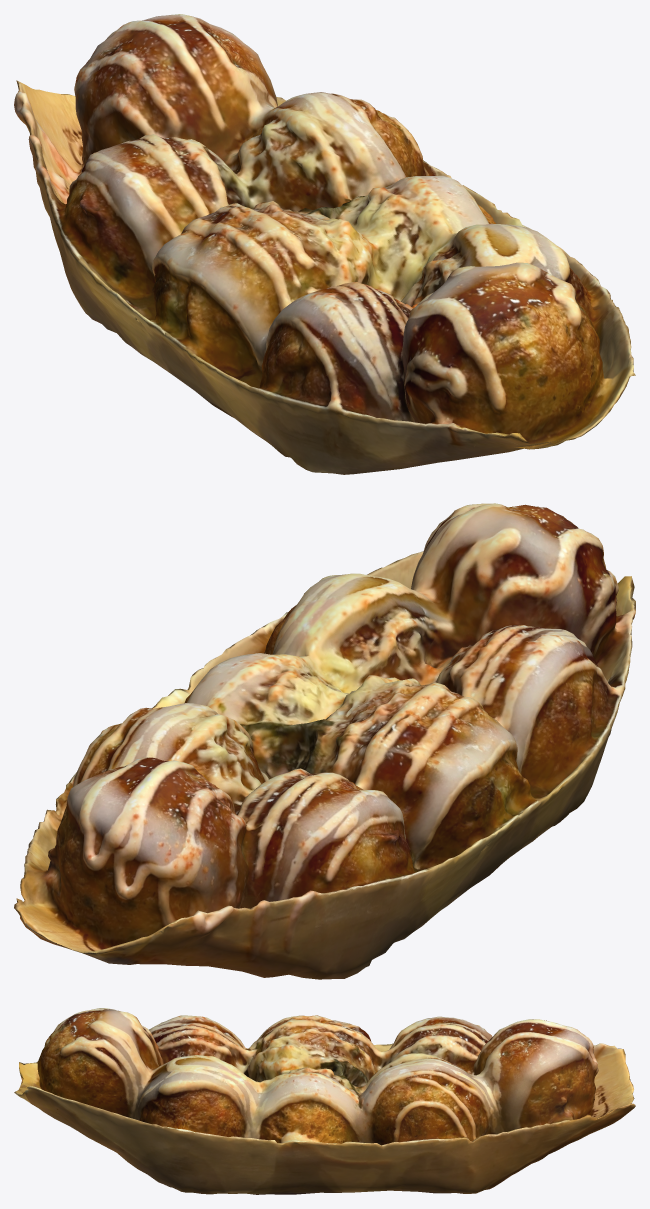
Rendered from takoyaki.glb.
3 renders of one model, top to bottom at view 1: azimuth 30°, elevation 25°; view 2: azimuth 150°, elevation 25°; view 3: azimuth 270°, elevation 25°, orthographic. The views are drawn at different scales.
Visible parts, largest first — view 1: ObjectCapture; view 2: ObjectCapture; view 3: ObjectCapture.
Part boxes in pixels (x1,y1,x2,y2): ObjectCapture: [14, 14, 635, 474]; ObjectCapture: [14, 503, 635, 979]; ObjectCapture: [14, 1008, 635, 1194].
Size of the model in its own units: 0.0941 by 0.0547 by 0.2212.
1 material, 1 textured.
